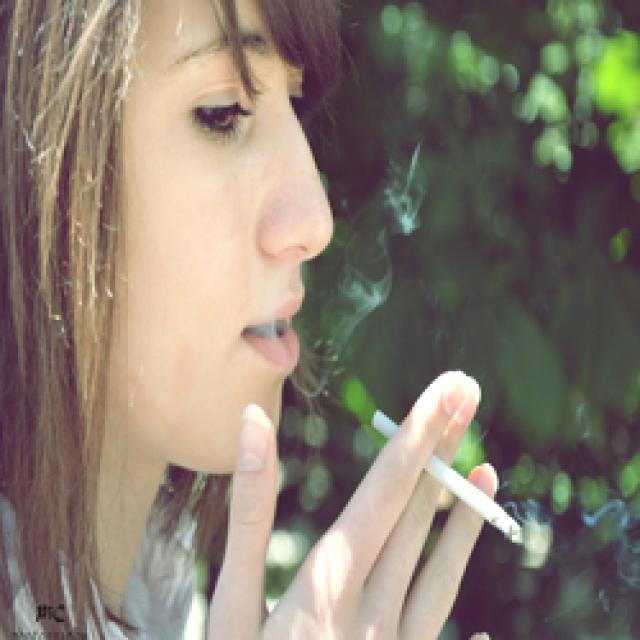Smooking: (363, 406, 538, 552)
